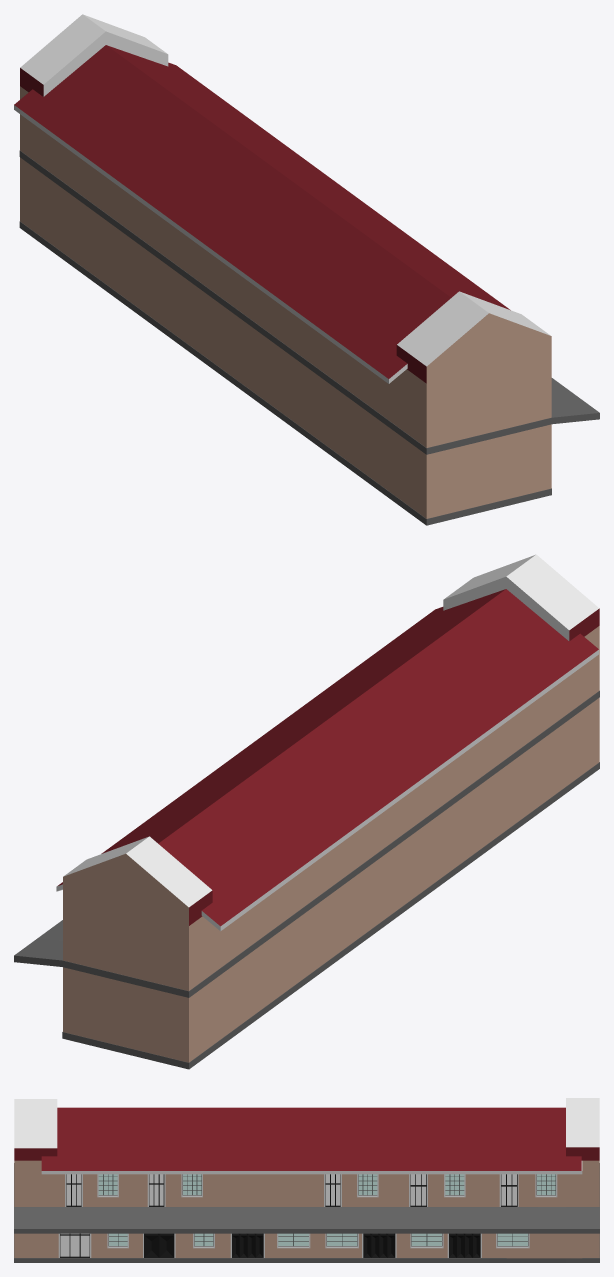
File: Building 7.fbx
3 renders of one model, top to bottom at view 1: azimuth 30°, elevation 25°; view 2: azimuth 150°, elevation 25°; view 3: azimuth 270°, elevation 25°, orthographic. The views are drawn at different scales.
Visible parts, largest first — view 1: building_003; view 2: building_003; view 3: building_003.
Part boxes in pixels (<box>): building_003: <box>14,14,599,525</box>; building_003: <box>14,554,599,1069</box>; building_003: <box>14,1098,599,1262</box>.
Bounding box in the file's own units: 615 × 608 × 2259.
